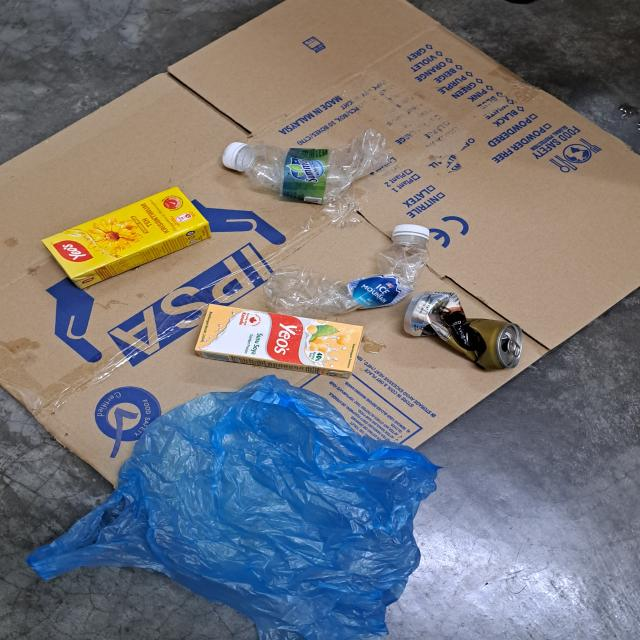can: (403, 291, 524, 372)
cardboard: (0, 0, 640, 497)
drink carton: (41, 187, 212, 290), (195, 303, 364, 379)
plastic bag: (24, 374, 443, 640)
plastic bottle: (263, 238, 429, 318), (247, 128, 391, 206)
plastic bottle cap: (222, 142, 248, 173), (393, 224, 431, 240)
pop tab: (507, 339, 521, 358)
